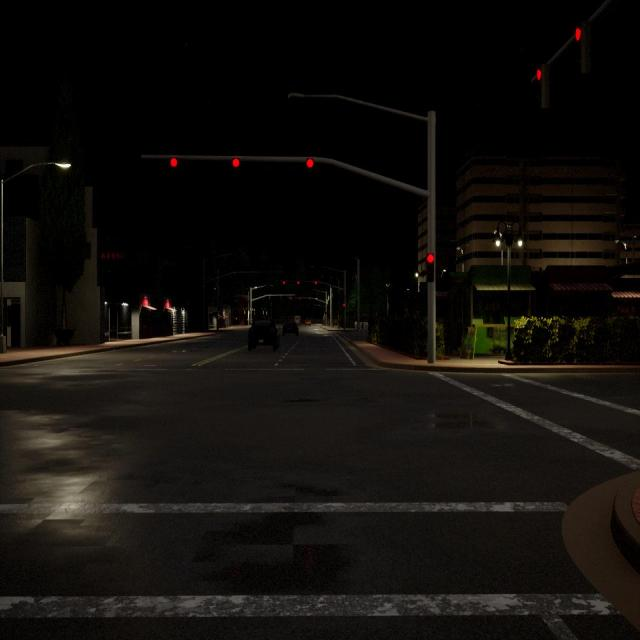Vehicle: (248, 318, 280, 352), (282, 320, 299, 337), (304, 320, 311, 326)
traffic_light: (535, 66, 547, 110), (574, 26, 585, 74), (426, 253, 434, 282), (232, 157, 240, 168), (306, 158, 314, 169), (170, 157, 177, 167), (283, 281, 285, 284), (343, 304, 345, 307), (315, 281, 317, 284), (297, 282, 299, 284)
